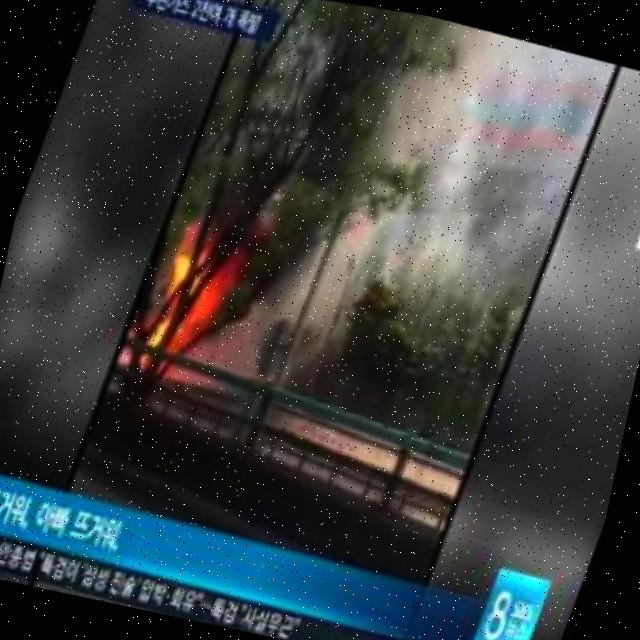fire: (127, 214, 257, 393)
